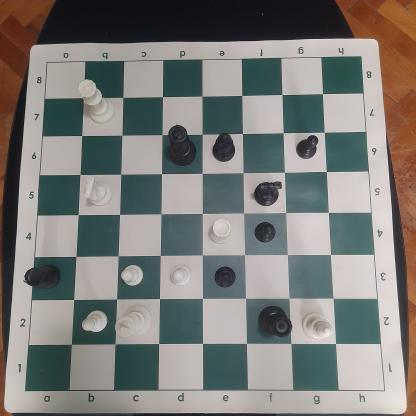black-bishop: (210, 128, 238, 165)
black-king: (164, 122, 200, 169)
black-knight: (252, 178, 282, 210)
black-pawn: (295, 134, 321, 162), (253, 219, 278, 245), (213, 263, 238, 289)
black-queen: (255, 303, 294, 340)
black-rook: (22, 261, 62, 293)
white-bishop: (300, 310, 335, 341)
white-king: (114, 303, 154, 340)
white-knight: (81, 174, 114, 209)
white-pawn: (81, 308, 109, 335), (118, 262, 145, 288), (168, 263, 194, 289)
white-queen: (76, 77, 120, 126)
white-rook: (206, 218, 234, 245)
